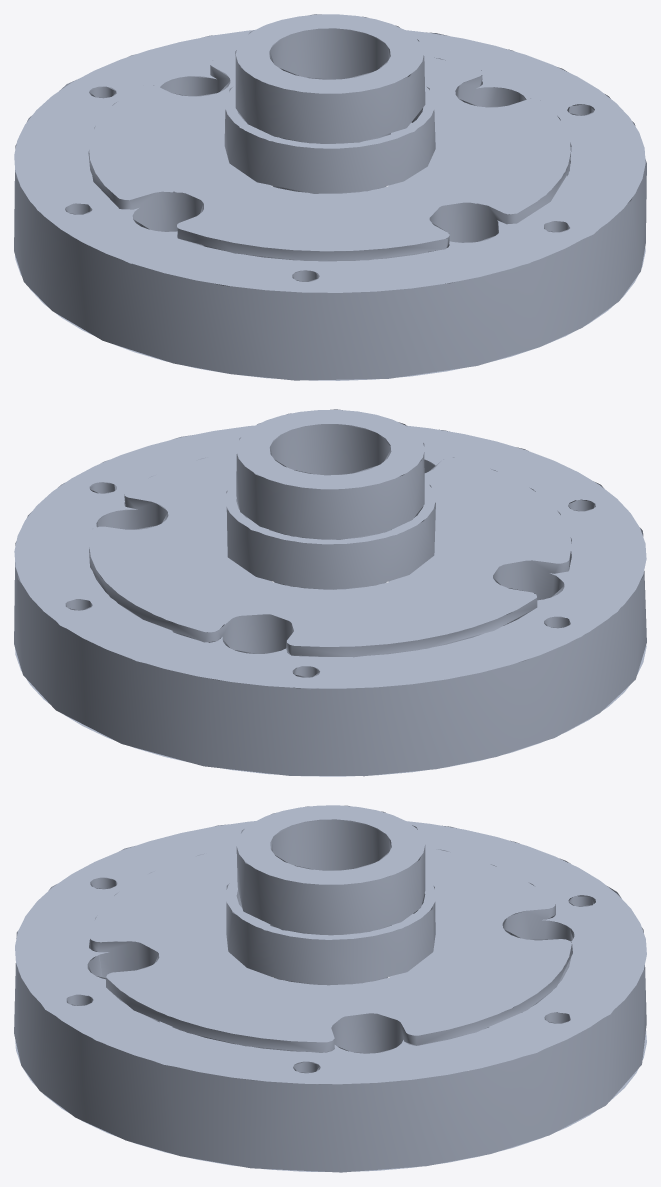
3 views of the same model, one above another, from view 1: azimuth 30°, elevation 25°; view 2: azimuth 150°, elevation 25°; view 3: azimuth 270°, elevation 25° (orthographic).
Visible parts, largest first — view 1: link3_02; view 2: link3_02; view 3: link3_02.
Boxes of the visible parts, bbox=[...] form: link3_02: bbox=[14, 14, 646, 380]; link3_02: bbox=[14, 409, 646, 776]; link3_02: bbox=[14, 805, 646, 1172].
Bounding box in the file's own units: 0.0571 × 0.0193 × 0.0571.
